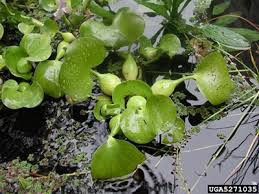water_hyacinth: (1, 12, 233, 177)
